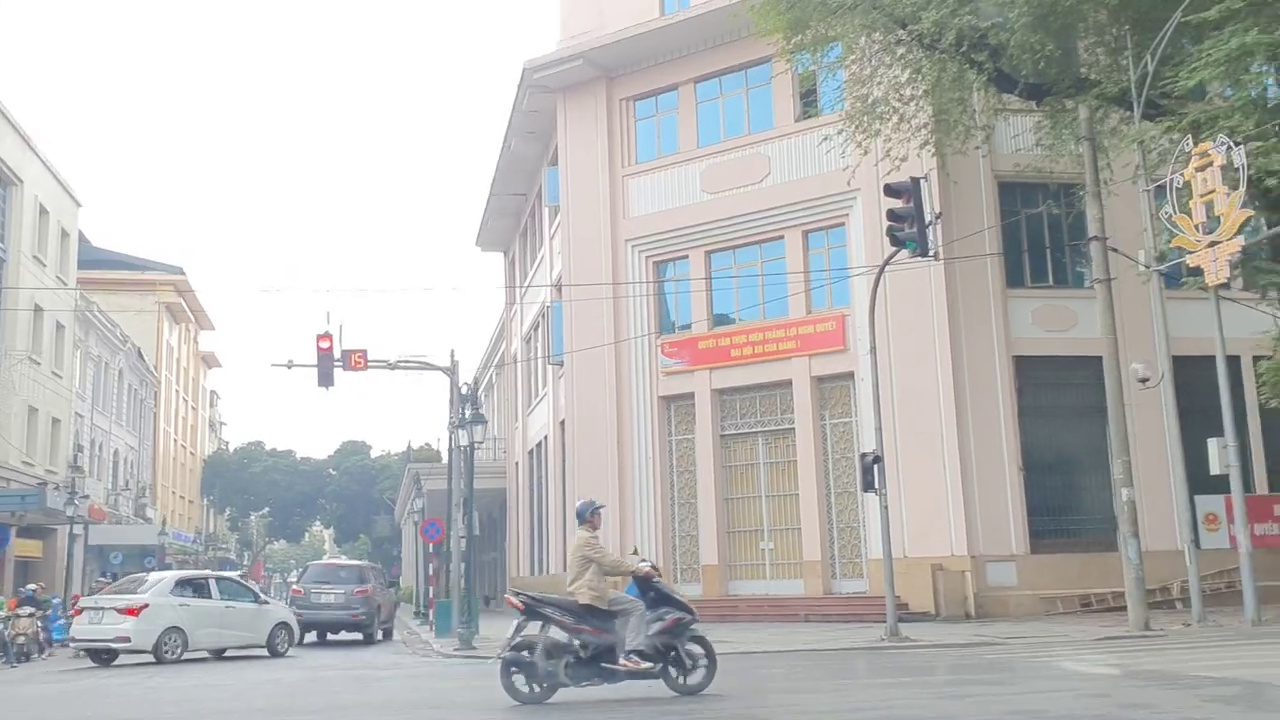person: (86, 606, 102, 623), (318, 591, 337, 605)
